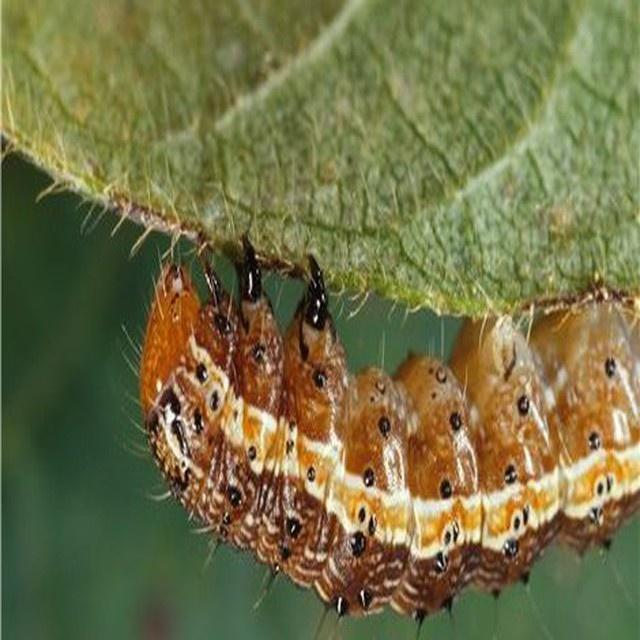worm: (121, 230, 640, 640)
